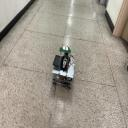cart: (52, 57, 75, 90)
